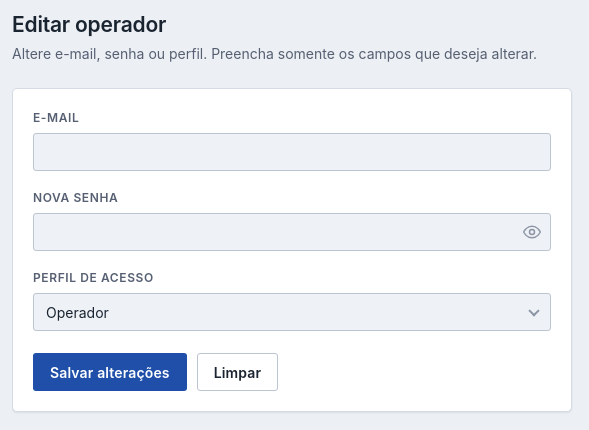
Test: EditOperatorPage: abertura e envio parcial › envia e-mail e perfil quando acessada direto e o e-mail foi digitado
In the field labelled "E-mail": (292, 152) [33, 133, 551, 171], type "novo@example.test"
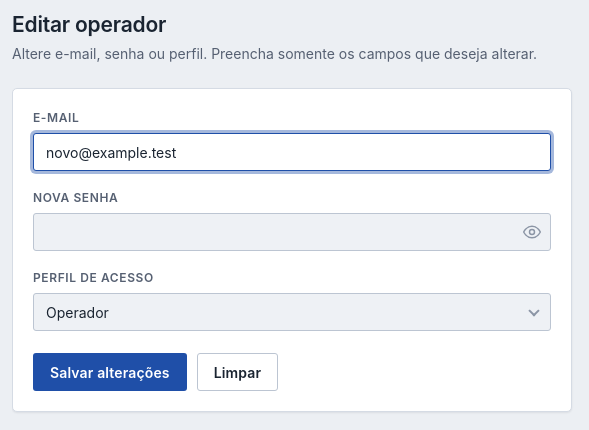
Click the button "Salvar alterações": (110, 372) [33, 353, 187, 391]
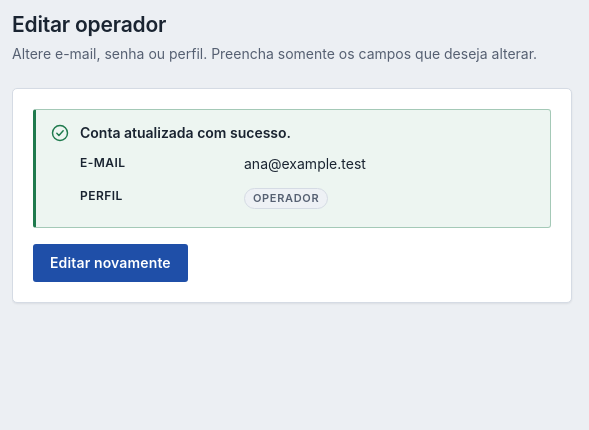
expect the text "Conta atualizada com sucesso." is shown: met, box [80, 124, 291, 141]
